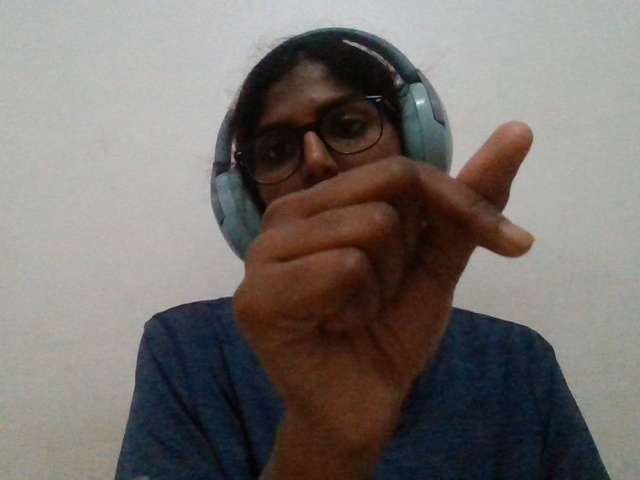G: (205, 109, 557, 463)
